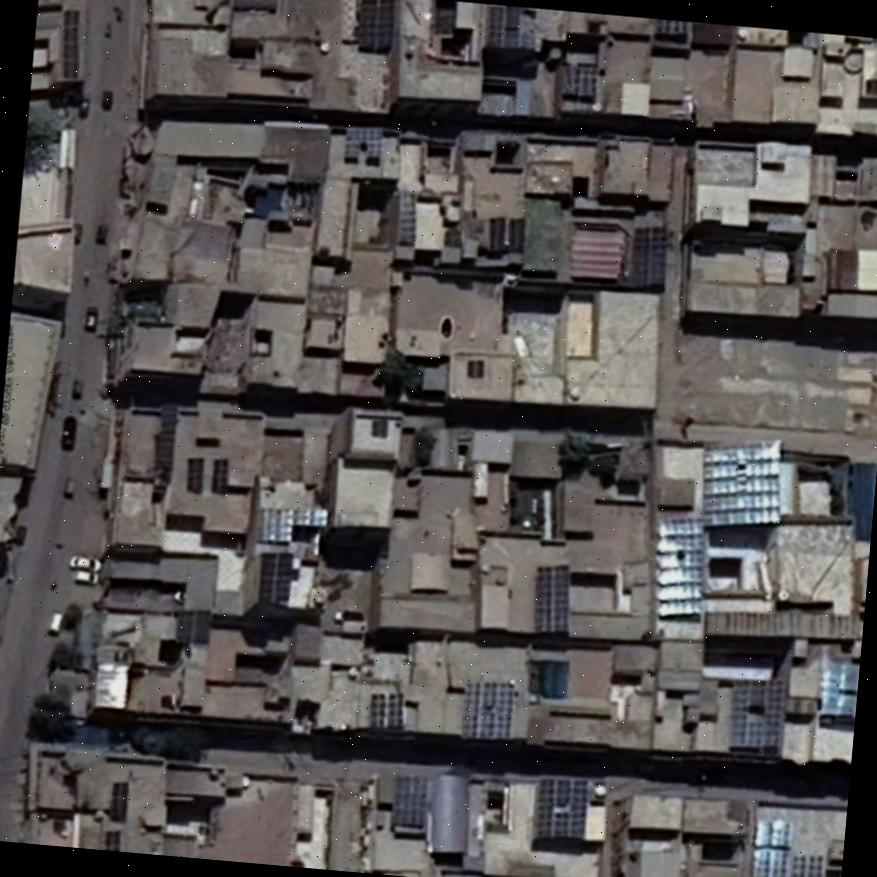Solarpanel: (706, 442, 778, 523), (658, 518, 703, 613), (729, 680, 784, 746), (463, 680, 514, 738), (536, 778, 585, 837), (753, 821, 790, 877), (630, 227, 667, 283), (538, 562, 568, 629), (390, 774, 427, 826), (354, 0, 393, 48), (260, 551, 292, 599), (371, 692, 402, 728), (348, 126, 381, 158), (574, 64, 598, 97), (793, 855, 822, 877), (111, 783, 127, 817), (187, 457, 202, 493), (213, 456, 227, 494), (659, 19, 690, 33)
